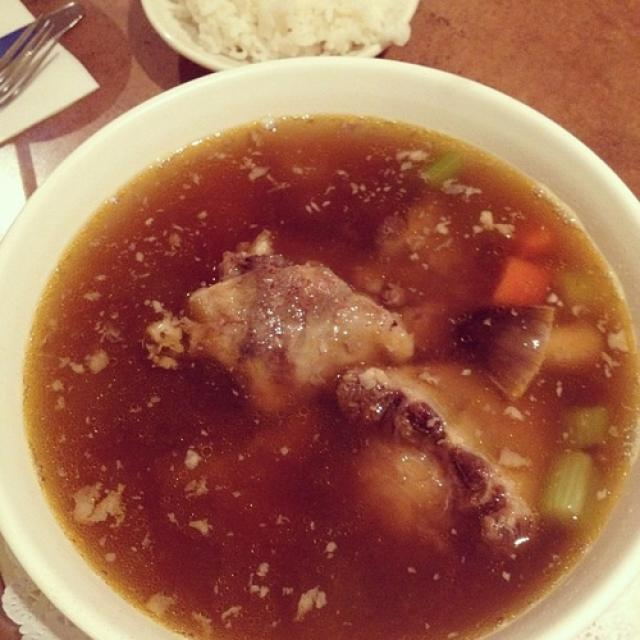汤锅炖物: (22, 37, 617, 623)
